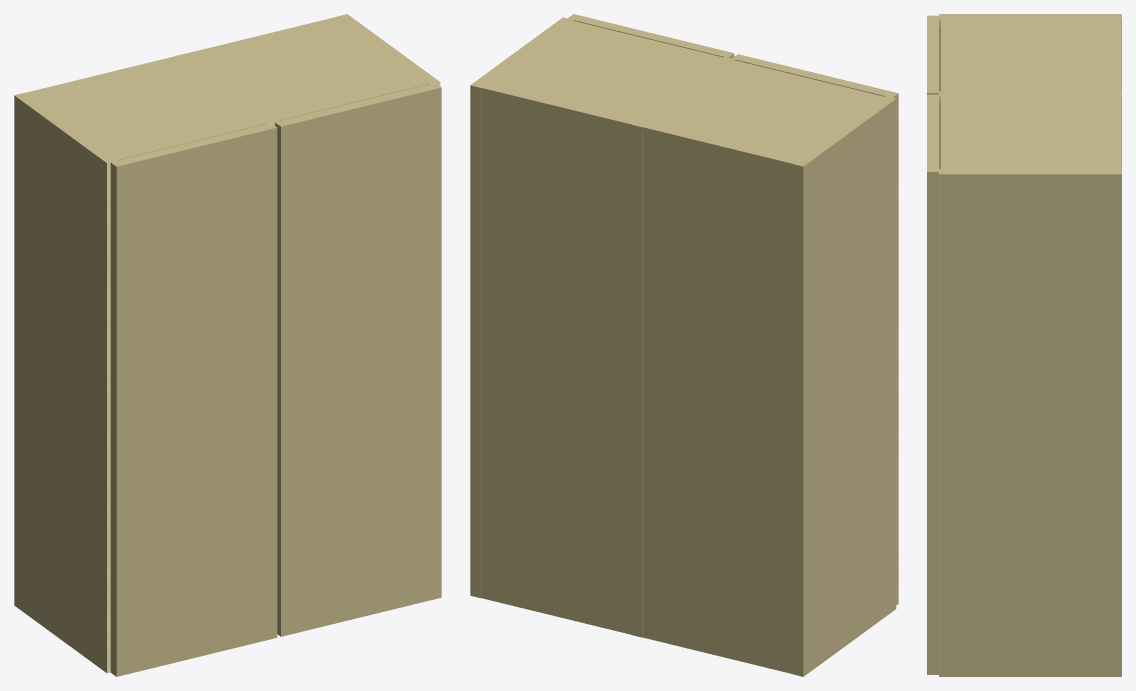
Rendered from small wardrobe.FBX.
3 renders of one model, left to right at view 1: azimuth 30°, elevation 25°; view 2: azimuth 150°, elevation 25°; view 3: azimuth 270°, elevation 25°, orthographic.
Parts seen in each view (by area): view 1: small wardrobe; view 2: small wardrobe; view 3: small wardrobe.
Boxes of the visible parts, bbox=[...] form: small wardrobe: bbox=[14, 14, 441, 676]; small wardrobe: bbox=[470, 14, 898, 676]; small wardrobe: bbox=[927, 14, 1121, 676].
Bounding box in the file's own units: 124 × 182 × 63.89.
Materials: 1 (1 with a texture image).
